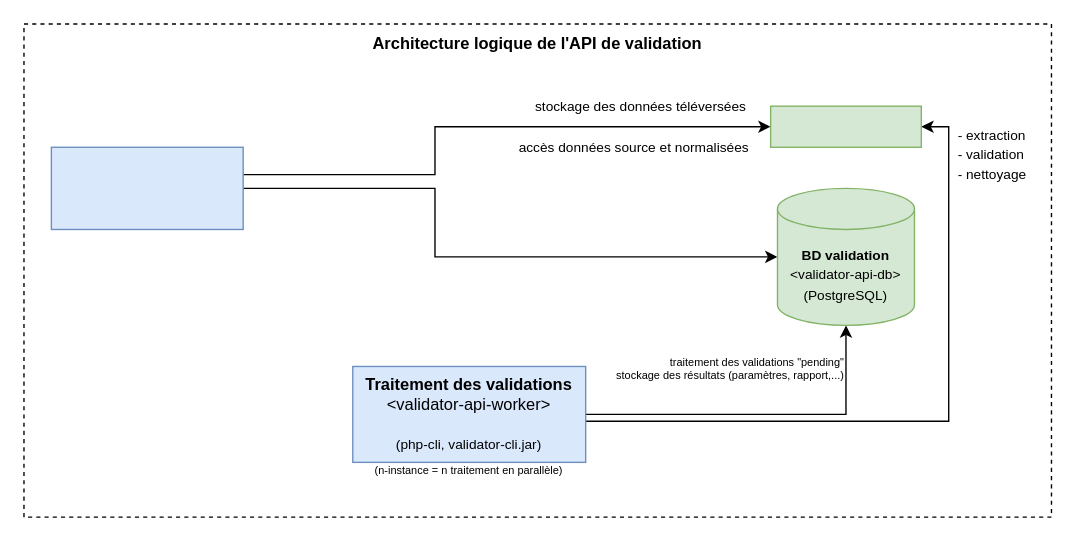
Image size: 1075x541. Some labels were removed from this diagram. Each missing label, with the centre of its shape:
"API validation <validator-api-front>" belongs at point (146, 187).
"Filer validation" belongs at point (845, 126).
